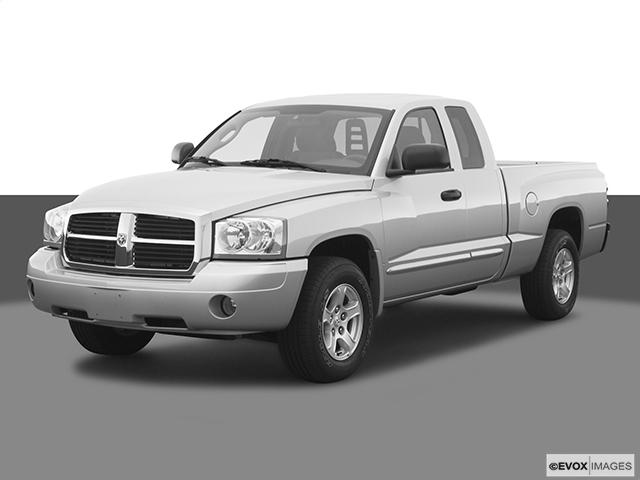car: (24, 96, 611, 385)
